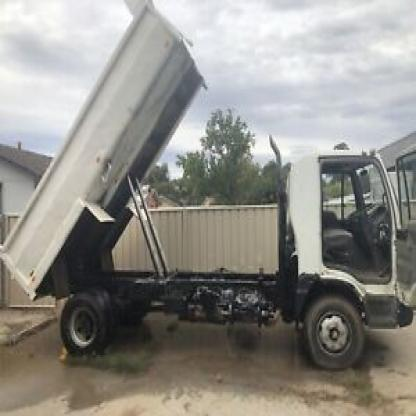dump_truck: (4, 0, 415, 372)
